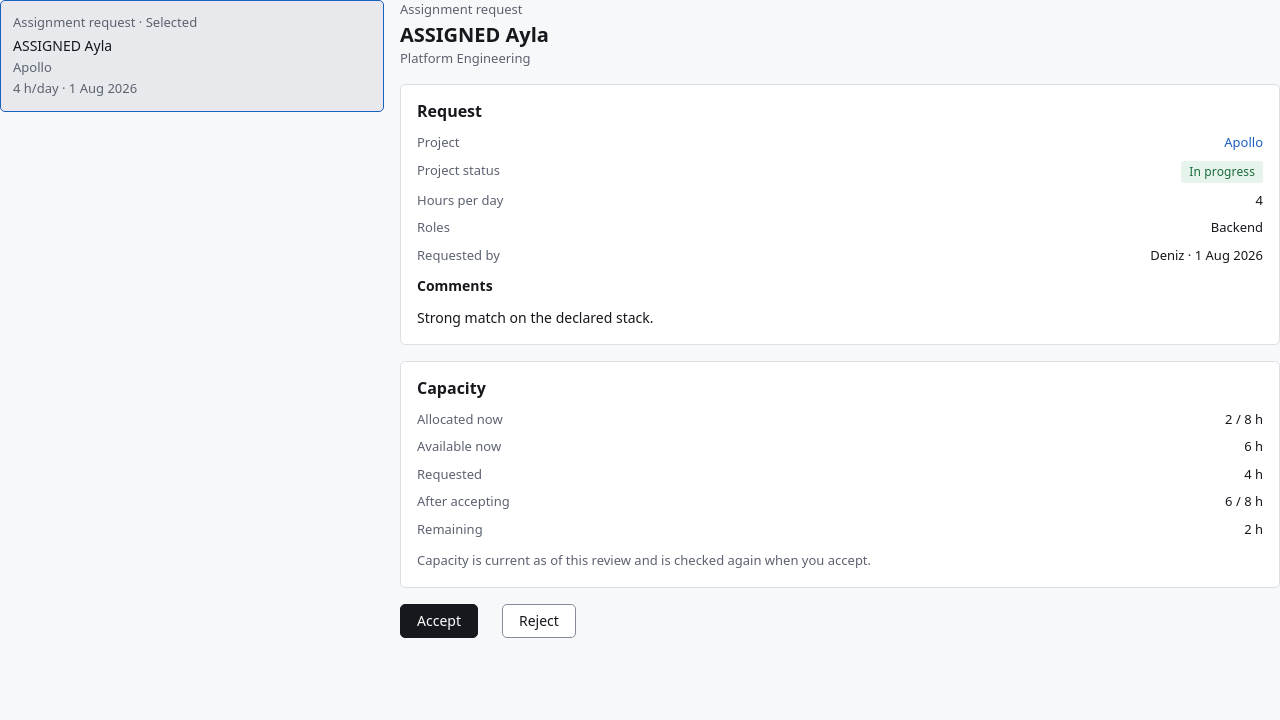
Test: decisions › offers an optional reason when rejecting, and says it is optional
Click the button "Reject": x=539, y=620 left=502, top=604, right=576, bottom=638
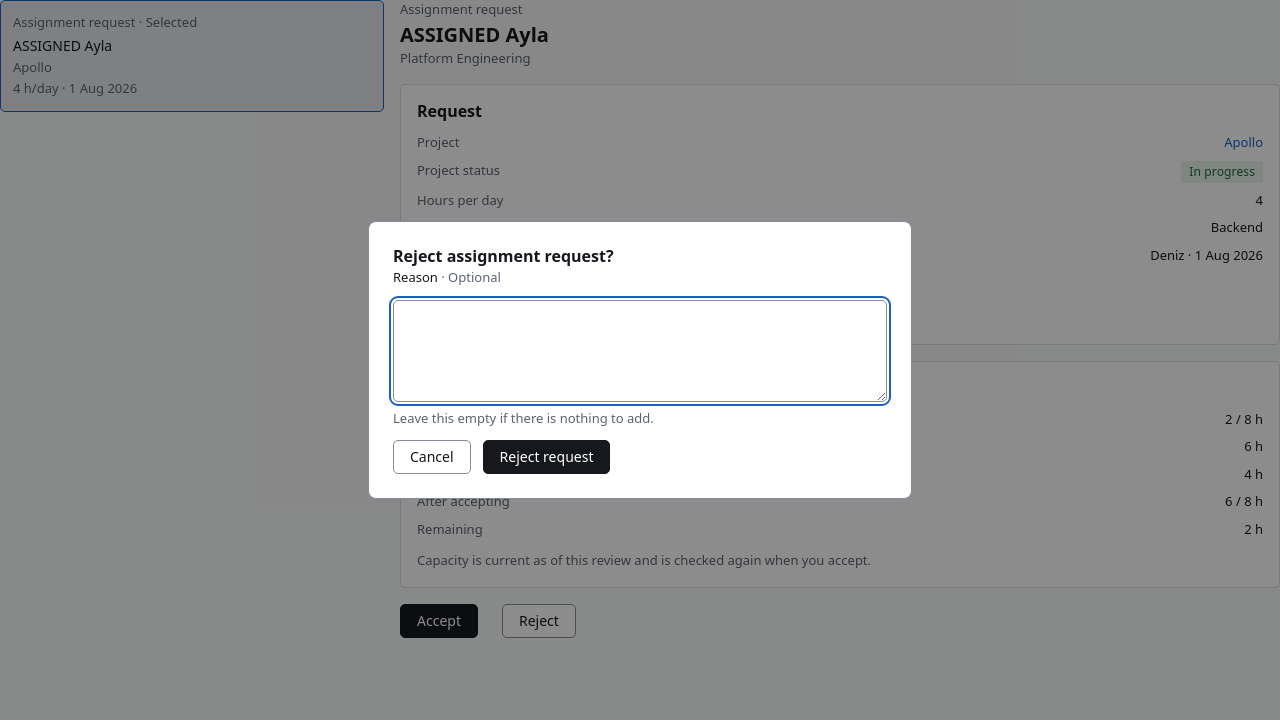
Check: the heading "Reject assignment request?" is shown, box left=393, top=245, right=614, bottom=267
Check: the text "· Optional" is shown, box left=438, top=268, right=501, bottom=286
Check: the button "Reject request" is enabled, box left=483, top=440, right=610, bottom=474
